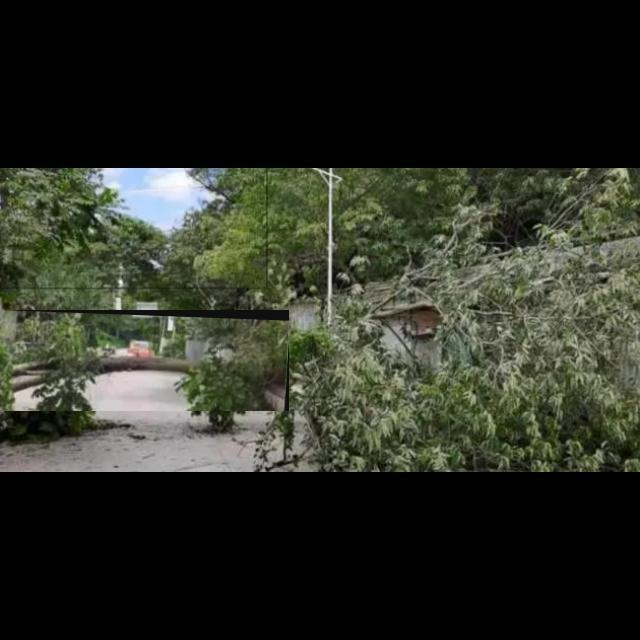fallen_tree: (0, 310, 290, 412)
